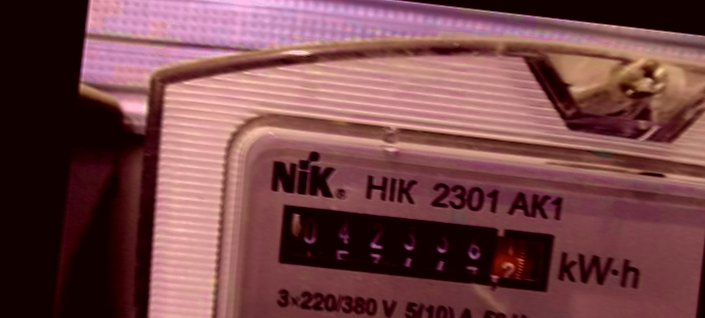0: (300, 217, 319, 247)
1: (503, 235, 518, 258)
2: (368, 221, 387, 252), (499, 260, 517, 280)
3: (432, 226, 451, 257), (400, 224, 418, 253)
4: (334, 216, 355, 247)
6: (465, 231, 486, 263)
screen: (265, 191, 568, 305)
